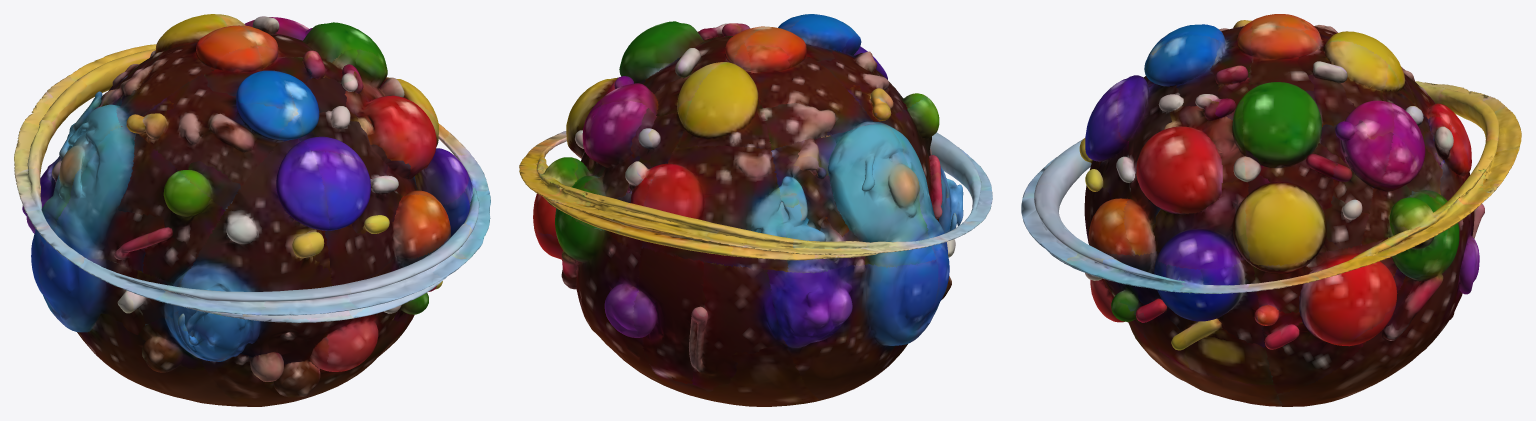
File: Mix_candy.glb
3 views of the same model, side by side, from view 1: azimuth 30°, elevation 25°; view 2: azimuth 150°, elevation 25°; view 3: azimuth 270°, elevation 25° (orthographic).
Visible parts, largest first — view 1: tripo_node_5f319c49-f4a9-4428-a40b-36e65cc375a0; view 2: tripo_node_5f319c49-f4a9-4428-a40b-36e65cc375a0; view 3: tripo_node_5f319c49-f4a9-4428-a40b-36e65cc375a0.
Boxes of the visible parts, <box> form: tripo_node_5f319c49-f4a9-4428-a40b-36e65cc375a0: <box>14,14,490,406</box>; tripo_node_5f319c49-f4a9-4428-a40b-36e65cc375a0: <box>519,14,992,406</box>; tripo_node_5f319c49-f4a9-4428-a40b-36e65cc375a0: <box>1021,14,1521,406</box>.
Size of the model in its own units: 0.953 by 0.784 by 0.9999.
1 material, 1 textured.
